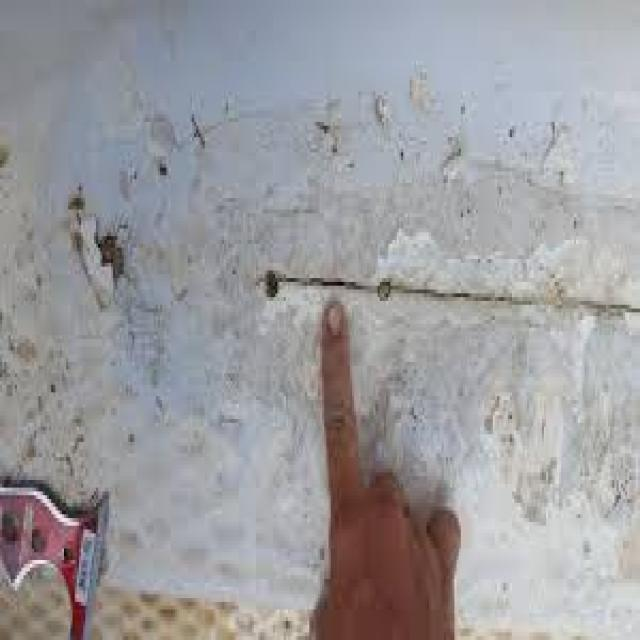Crack: (260, 266, 638, 308)
